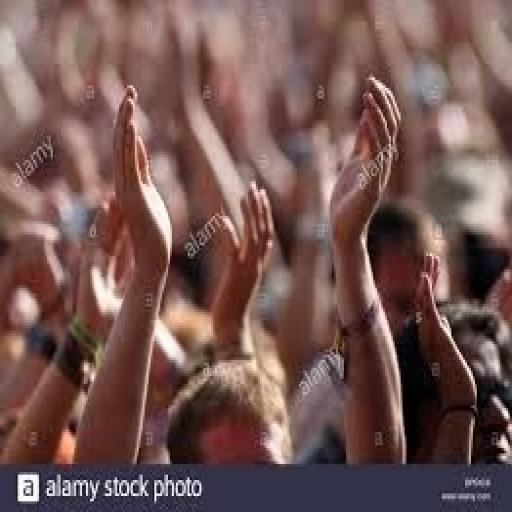clapping: (0, 66, 510, 466)
